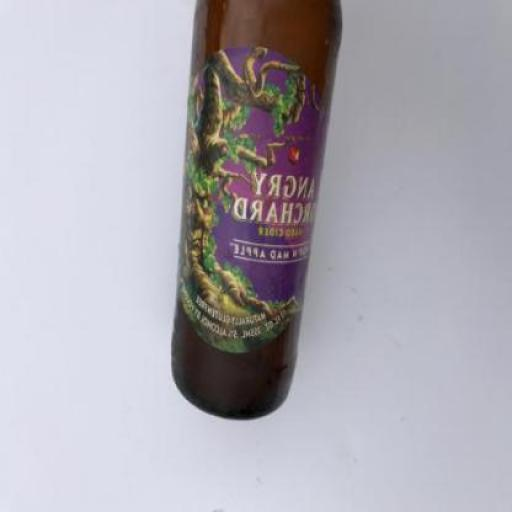glass: (170, 2, 342, 423)
